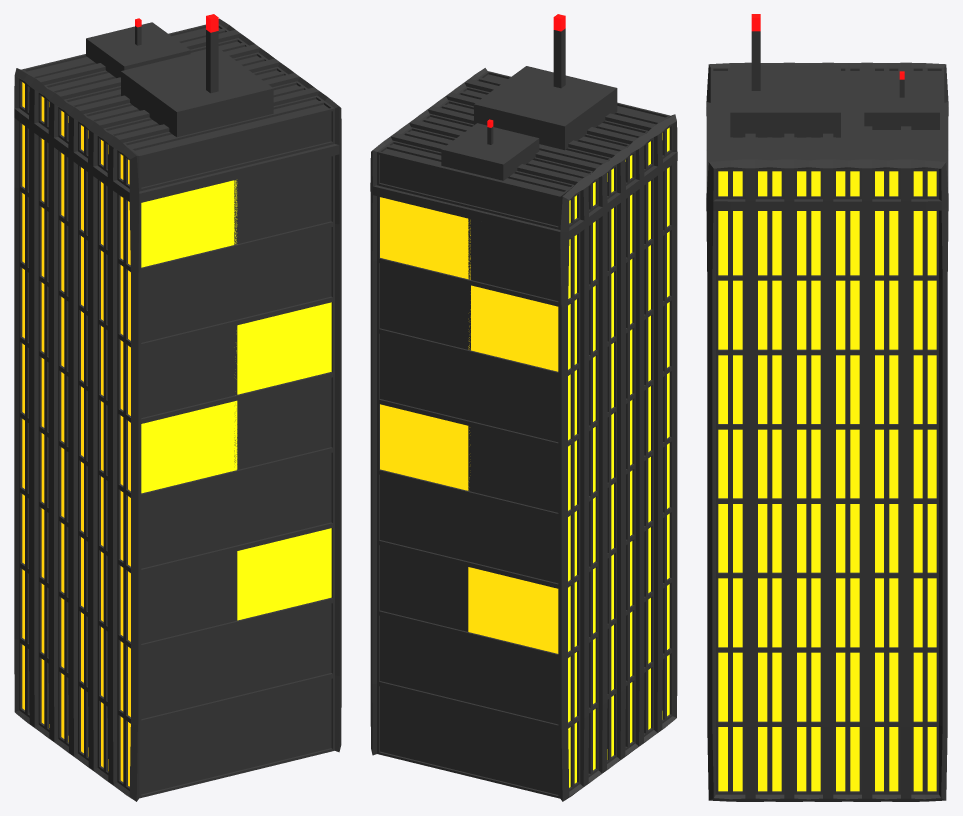
Rendered from house10.glb.
The picture shows the model from 3 angles, left to right: view 1: azimuth 30°, elevation 25°; view 2: azimuth 150°, elevation 25°; view 3: azimuth 270°, elevation 25°; orthographic projection. The views are drawn at different scales.
Visible parts, largest first — view 1: 立方体, 立方体.001, 立方体.002; view 2: 立方体, 立方体.001, 立方体.002; view 3: 立方体, 立方体.001, 立方体.002.
Boxes of the visible parts, bbox=[...] form: 立方体: bbox=[14, 18, 341, 801]; 立方体.001: bbox=[121, 14, 273, 137]; 立方体.002: bbox=[86, 18, 190, 77]; 立方体: bbox=[370, 68, 677, 801]; 立方体.001: bbox=[474, 14, 617, 150]; 立方体.002: bbox=[441, 119, 539, 180]; 立方体: bbox=[706, 62, 948, 801]; 立方体.001: bbox=[730, 14, 840, 137]; 立方体.002: bbox=[864, 71, 939, 129].
Bounding box in the file's own units: 20.85 × 69.64 × 20.73.
